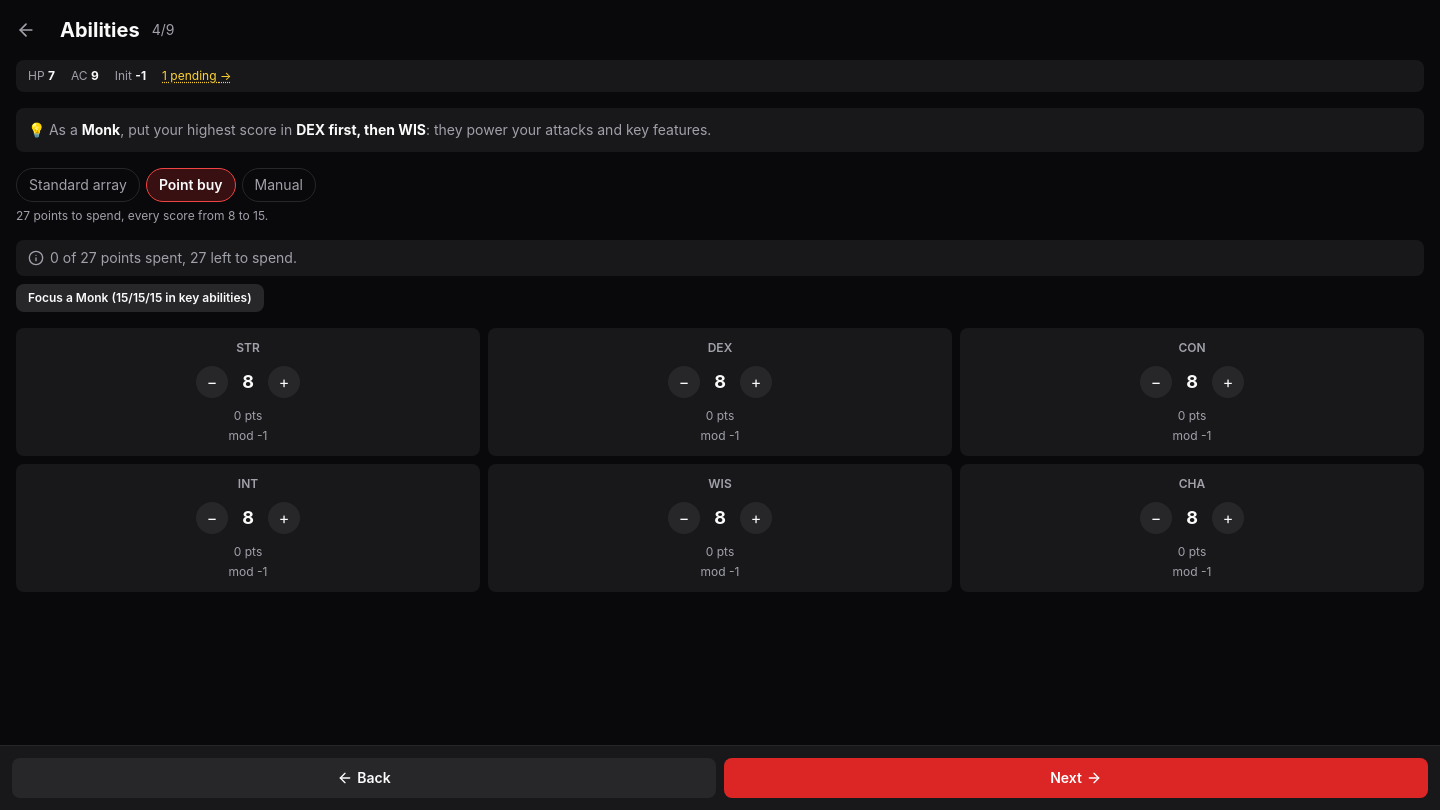
Test case: changes that take something away › ability overwrites › offers to undo a focus preset, and nothing when the scores did not move
Click the button "Focus a Monk (15/15/15 in key abilities)". click: point(140, 298)
box: [16, 284, 264, 312]
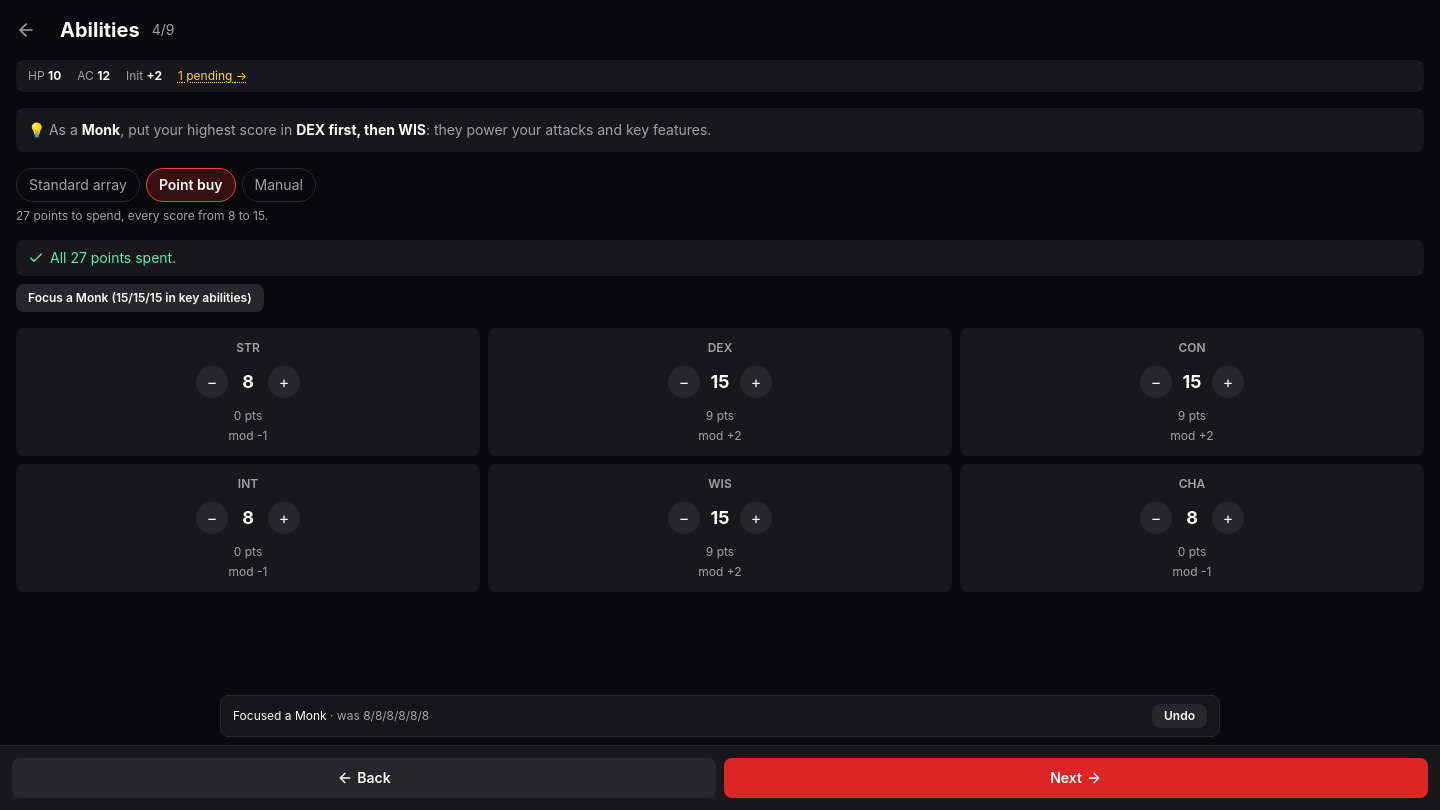
Click the button with aria-label "Undo: Focused a Monk". click: point(1180, 716)
box: [1152, 704, 1207, 728]
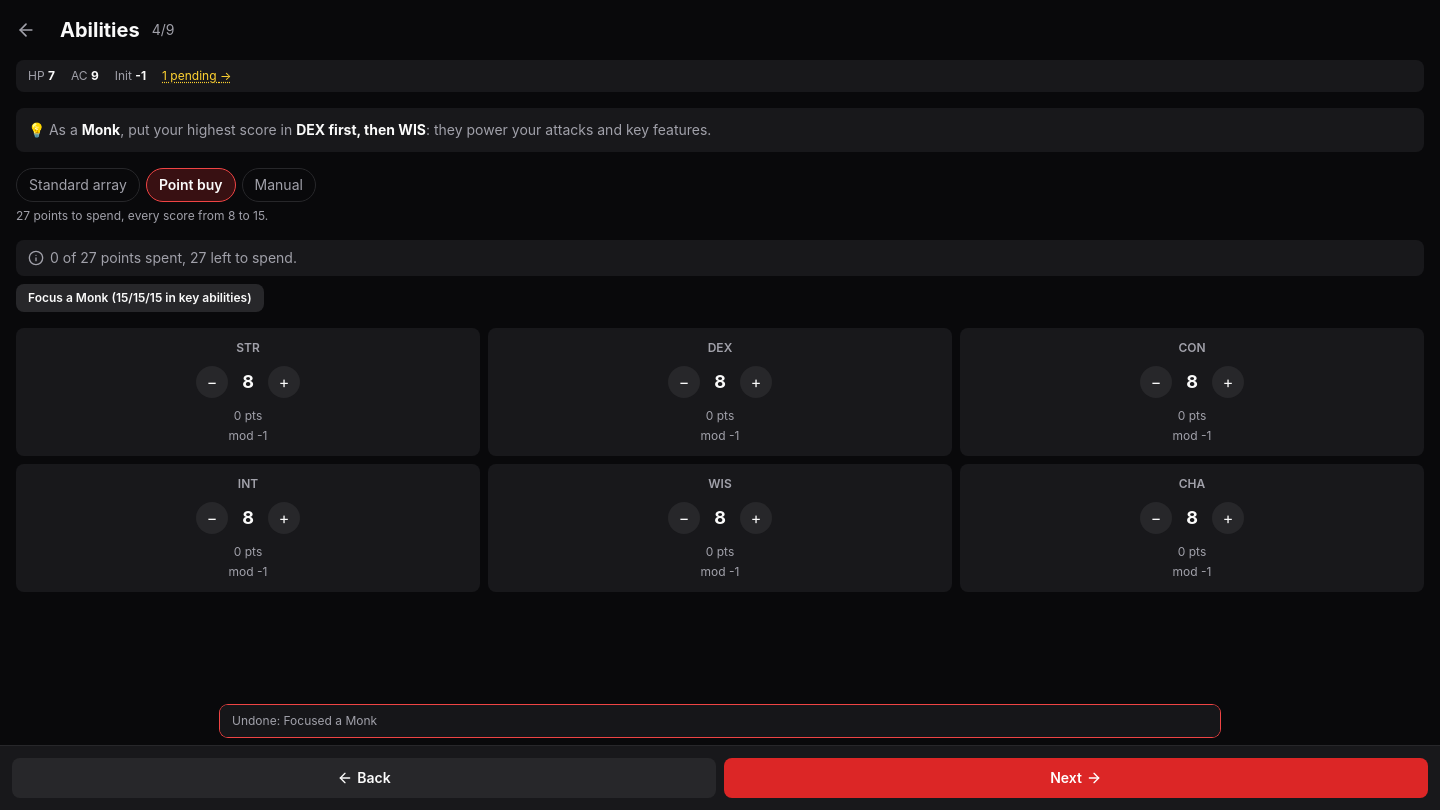
Click the button "Manual". click: point(279, 185)
box: [242, 168, 316, 202]
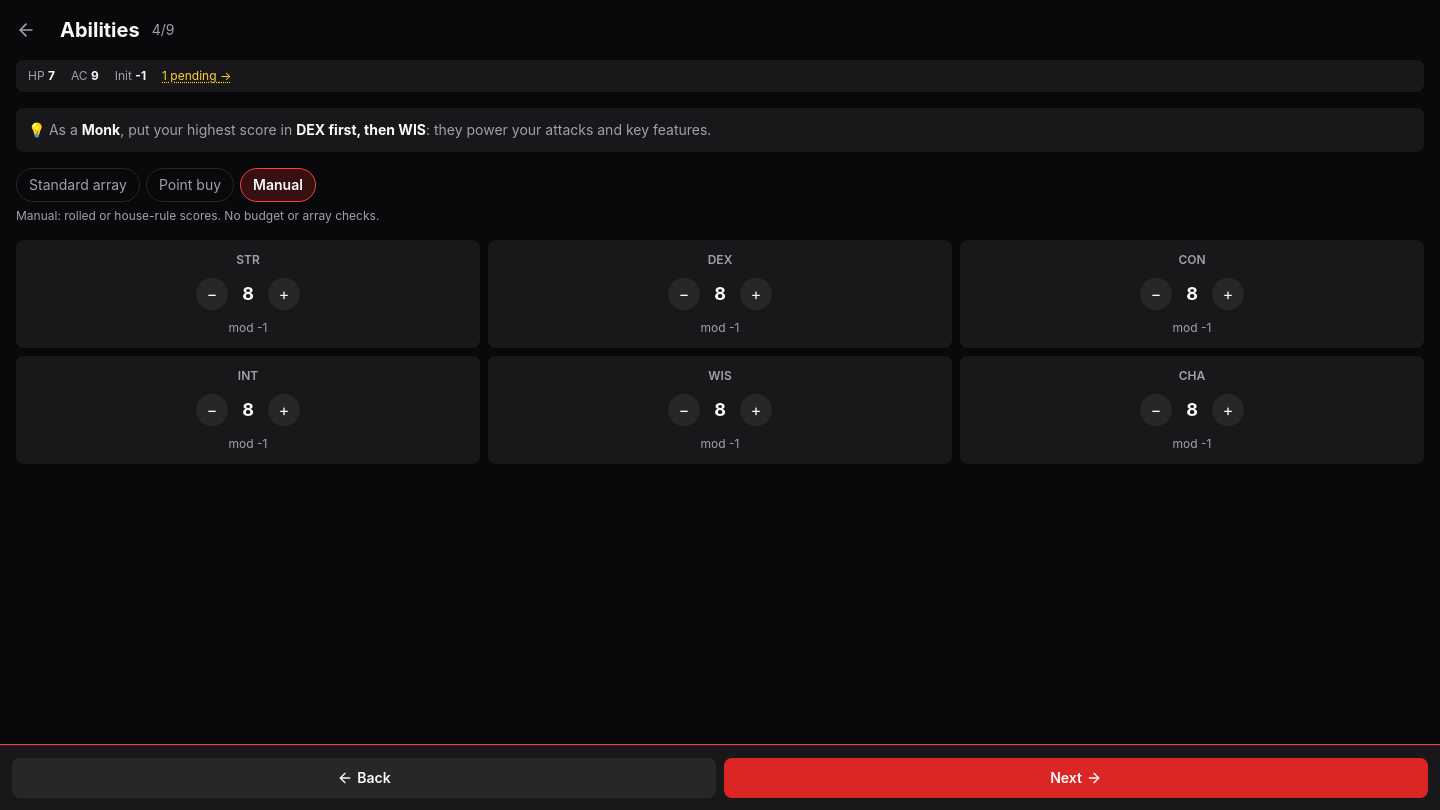
Expected: the text "Undo" is gone
